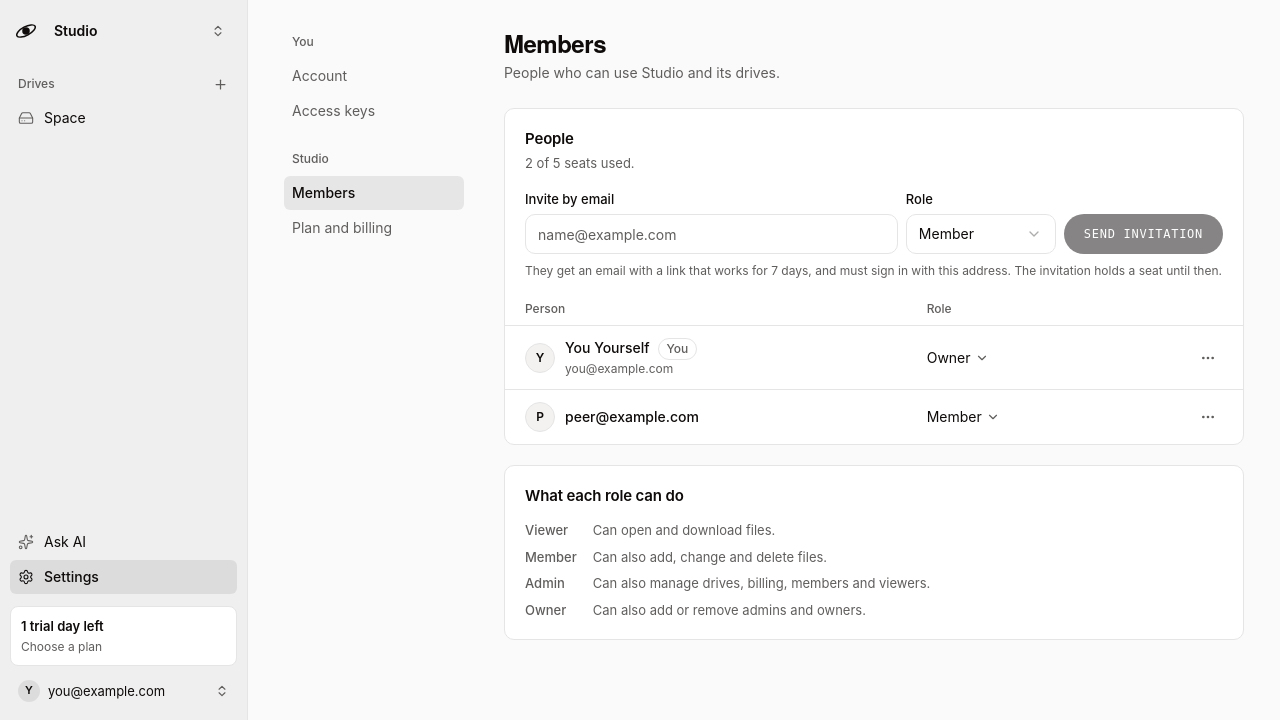
Scenario: keeps removal in a menu, asks first, and preserves membership errors in the confirmation
Click the button named "Options for peer@example.com" at (1208, 417), box [1193,402,1223,432]
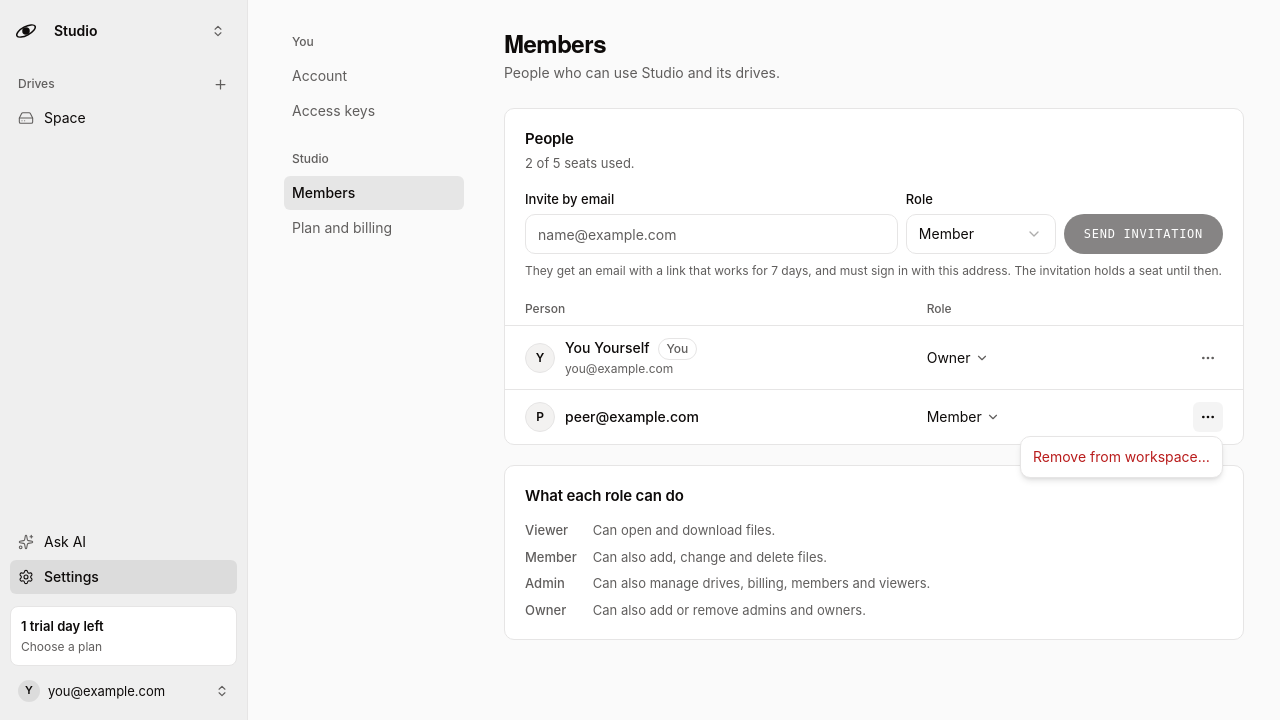
Click the menu item "Remove from workspace…" at (1121, 456), box [1033,448,1210,465]
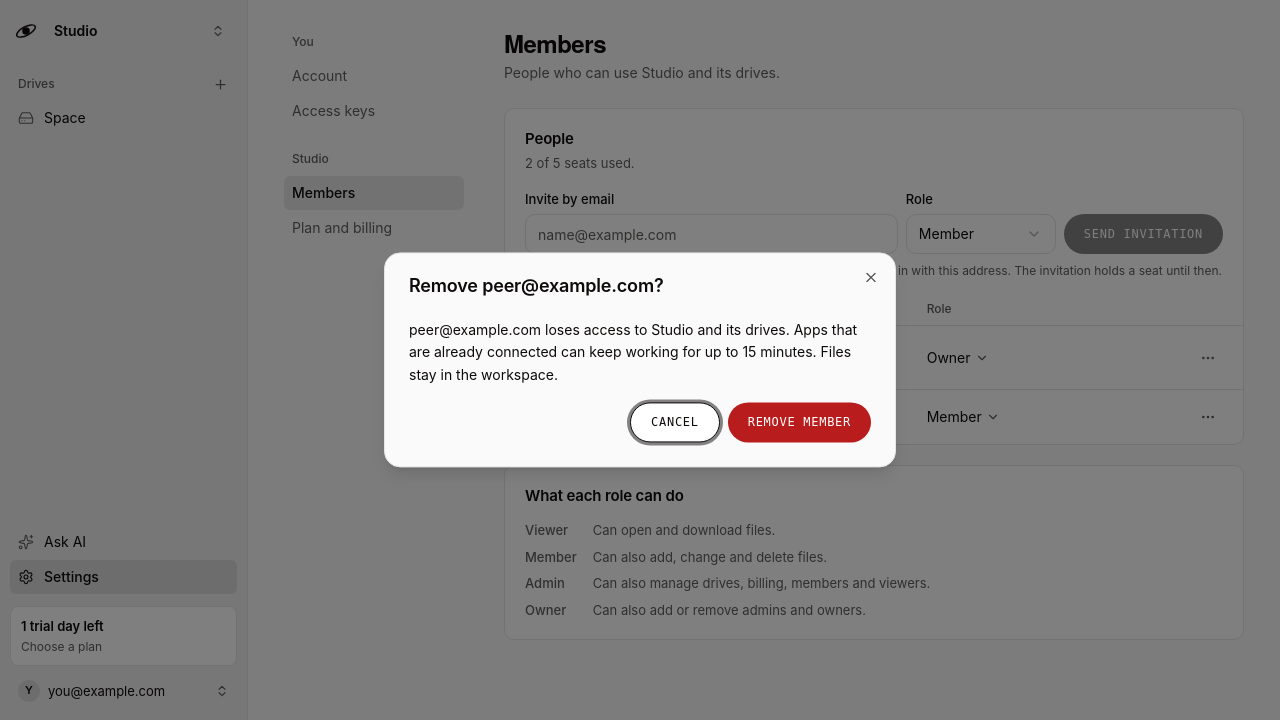
Expected: the text "peer@example.com loses access to Studio and its drives" is shown, [409,319,871,387]
Click the button "Remove member" at (799, 423), box [728,403,871,443]
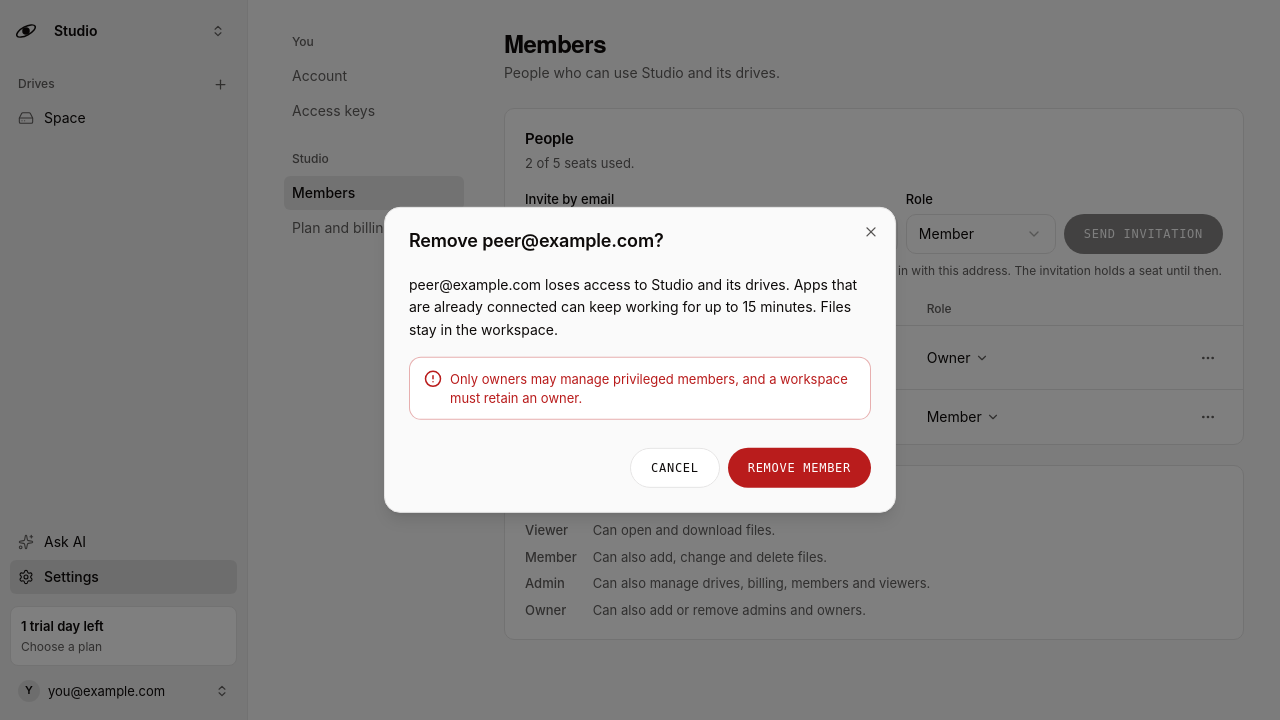
Expected: the dialog is shown, [384,207,896,513]
Expected: the message shows "workspace must retain an owner", [450,371,848,406]
